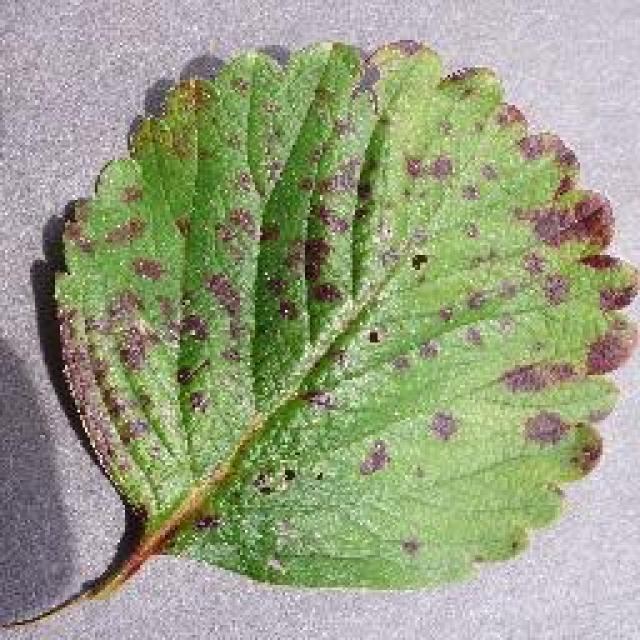Strawberry leaf scorch: (107, 152, 560, 478)
